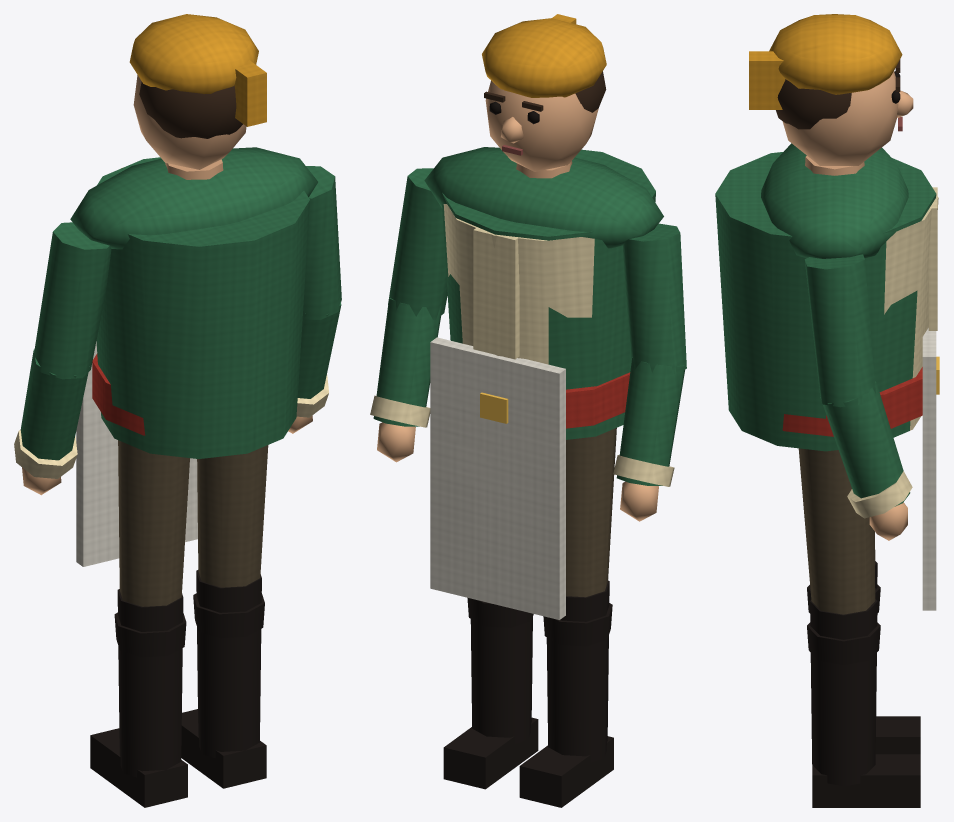
File: merchant.glb
3 views of the same model, side by side, from view 1: azimuth 30°, elevation 25°; view 2: azimuth 150°, elevation 25°; view 3: azimuth 270°, elevation 25° (orthographic). The views are drawn at different scales.
Parts seen in each view (by area): view 1: Body, Head, ShinL, ShinR, LegL, LegR, ArmL, ForearmL, ArmR, ForearmR; view 2: Body, Head, ShinL, ShinR, ArmL, ForearmL, ForearmR, LegL, ArmR; view 3: Body, Head, ShinR, LegR, ArmR, ForearmR, ShinL.
Part boxes in pixels (x1,y1,x2,y2): Body: (70,147,317,566); Head: (129,14,266,169); ShinL: (90,589,187,807); ShinR: (181,570,266,788); LegL: (118,440,189,606); LegR: (197,445,268,587); ArmL: (32,222,111,379); ForearmL: (14,349,89,495); ArmR: (302,166,341,319); ForearmR: (288,301,341,433); Body: (424,147,663,619); Head: (482,14,606,171); ShinL: (519,580,613,807); ShinR: (443,597,538,789); ArmL: (623,223,686,374); ForearmL: (613,357,685,521); ForearmR: (370,298,440,462); LegL: (566,428,616,597); ArmR: (388,168,447,319); Body: (715,143,939,610); Head: (749,14,913,165); ShinR: (807,599,920,807); LegR: (798,448,875,614); ArmR: (804,254,875,407); ForearmR: (820,381,912,540); ShinL: (807,561,920,754).
Bounding box in the file's own units: 0.78 × 1.85 × 0.4974.
12 materials, 6 textured.
